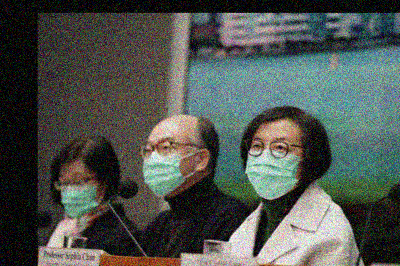with_mask: (243, 129, 304, 197), (139, 132, 196, 195), (54, 168, 104, 218)
